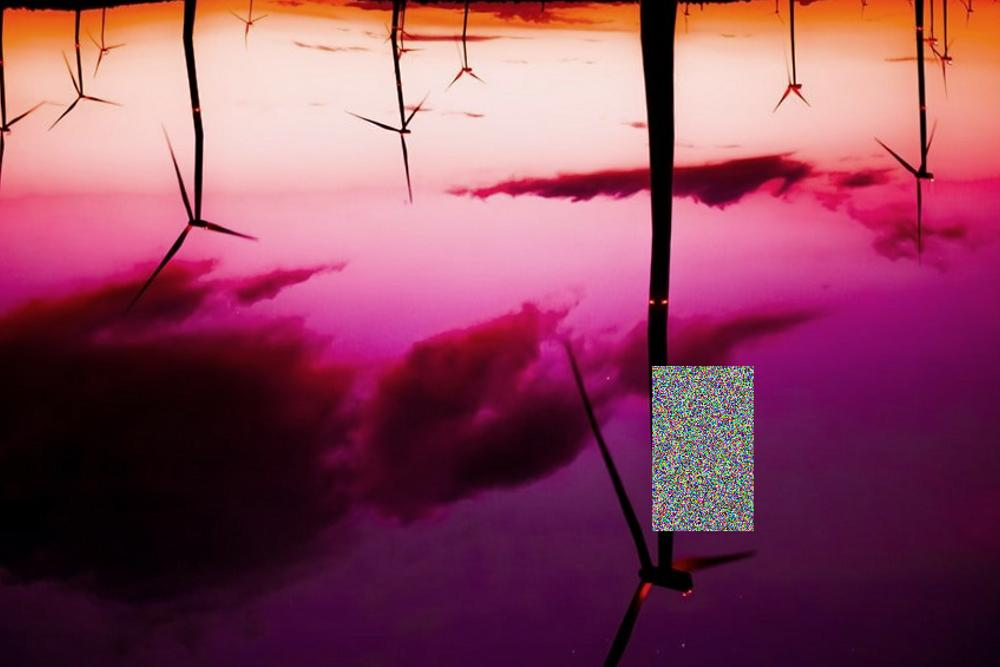working: (144, 119, 255, 284)
